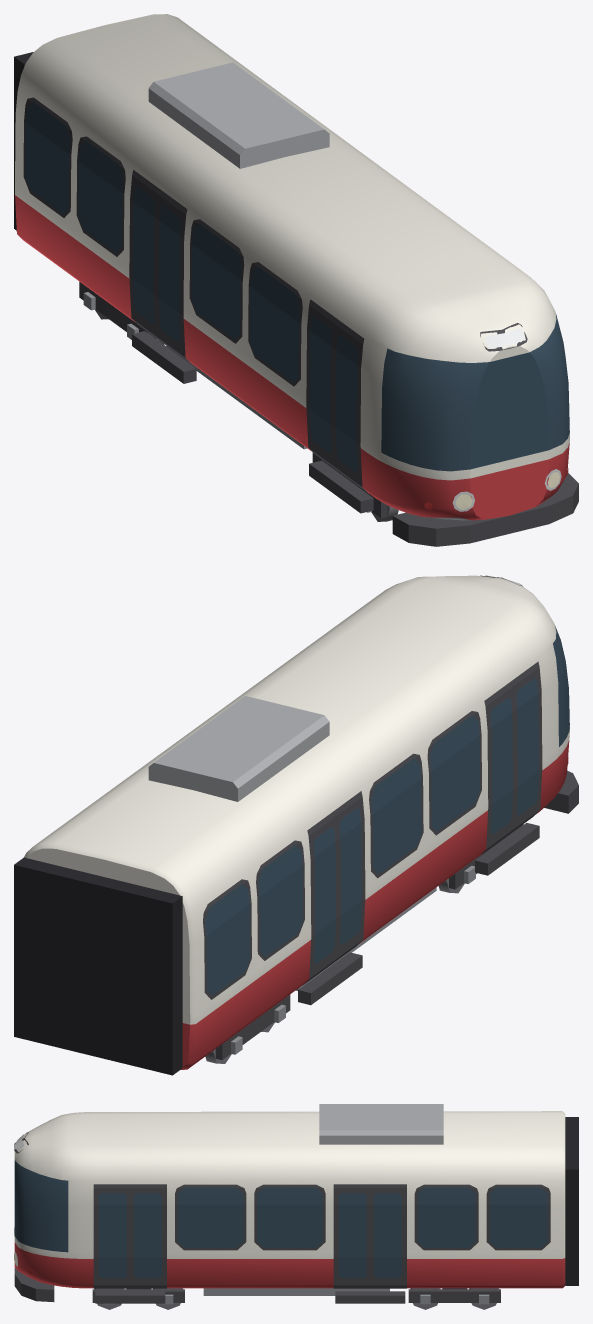
3 renders of one model, top to bottom at view 1: azimuth 30°, elevation 25°; view 2: azimuth 150°, elevation 25°; view 3: azimuth 270°, elevation 25°, orthographic. The views are drawn at different scales.
Parts seen in each view (by area): view 1: 14_3; view 2: 14_3; view 3: 14_3.
Part boxes in pixels (<box>): 14_3: <box>14,14,578,546</box>; 14_3: <box>14,575,578,1075</box>; 14_3: <box>14,1104,578,1309</box>.
Size of the model in its own units: 2.53 by 3.37 by 10.01.
